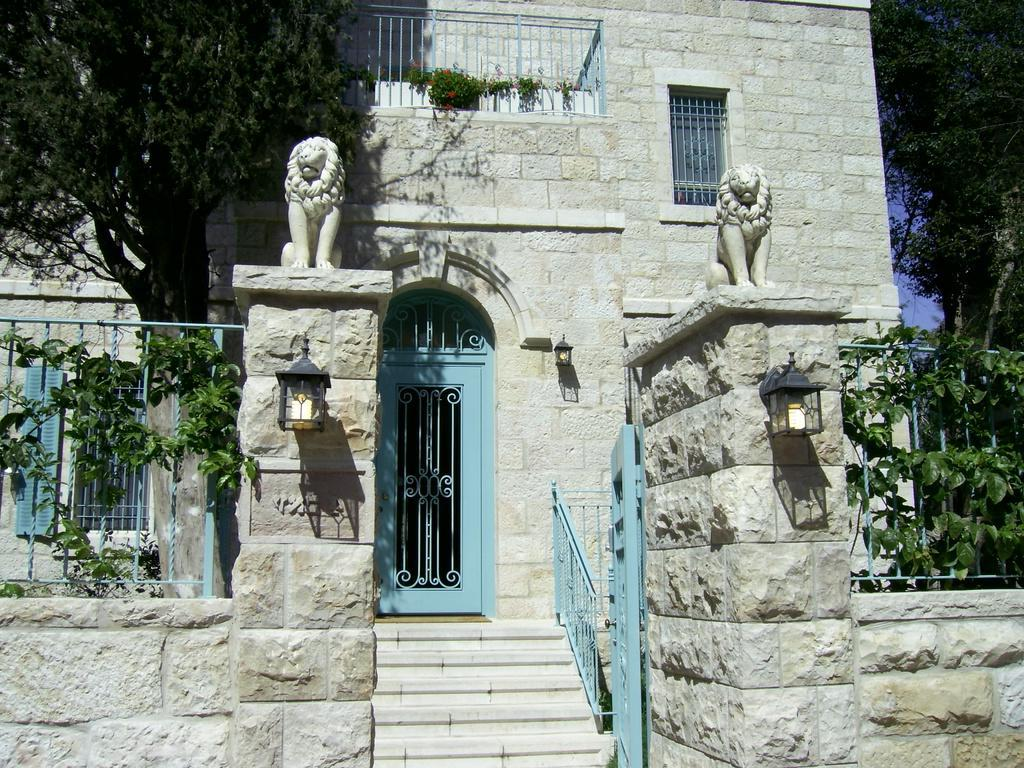door: (373, 367, 488, 602), (615, 449, 637, 750)
